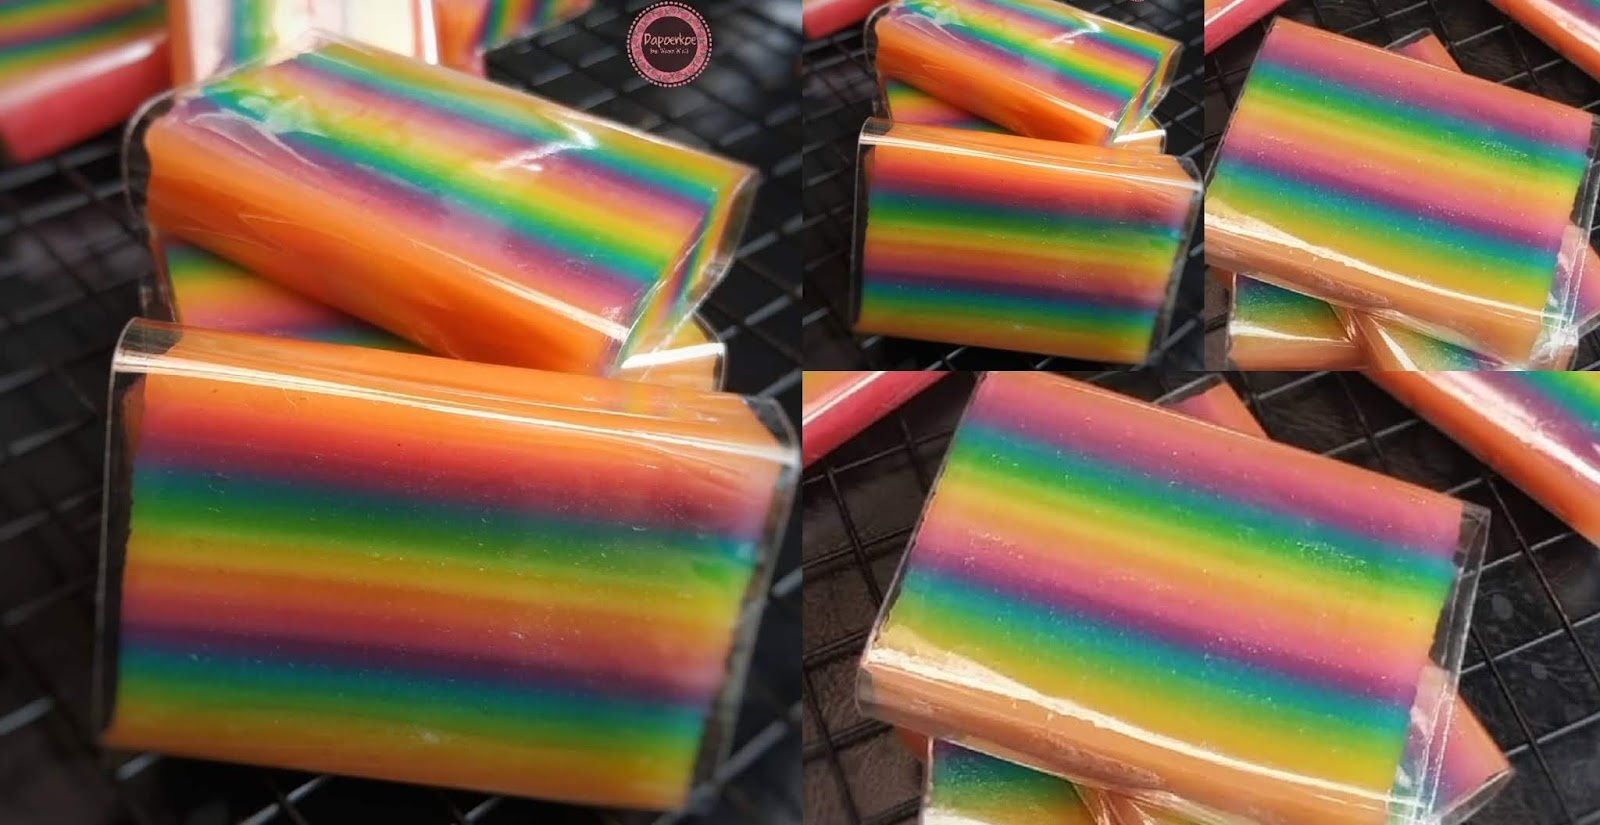kue_lapis_pelangi: (97, 333, 742, 809), (838, 368, 1470, 814), (147, 27, 753, 383), (1206, 16, 1571, 351), (862, 128, 1168, 353)
